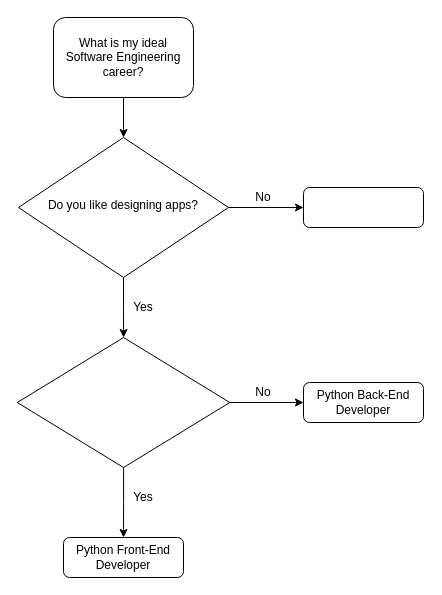
Image size: 442x595. Some labels were removed from this diagram. Here are the shapes that lost their labels. From the top down, the box of each, then its label:
(302, 186, 424, 228): Reverse Engineer
(16, 336, 230, 468): Do you like creating web pages?
